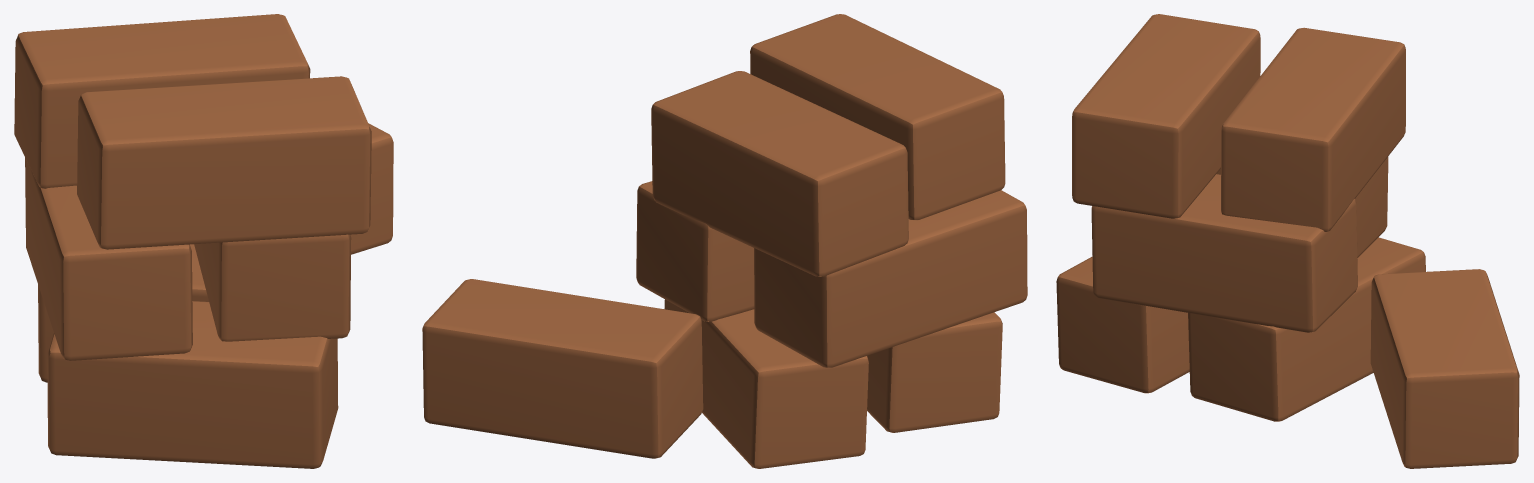
Rendered from brick cluster 3.fbx.
3 views of the same model, side by side, from view 1: azimuth 30°, elevation 25°; view 2: azimuth 150°, elevation 25°; view 3: azimuth 270°, elevation 25° (orthographic). The views are drawn at different scales.
Parts seen in each view (by area): view 1: polySurface20; view 2: polySurface20; view 3: polySurface20.
Boxes of the visible parts, bbox=[...] form: polySurface20: bbox=[14, 14, 393, 468]; polySurface20: bbox=[422, 14, 1027, 468]; polySurface20: bbox=[1056, 14, 1519, 468].
Bounding box in the file's own units: 0.8056 × 0.542 × 0.7842.
